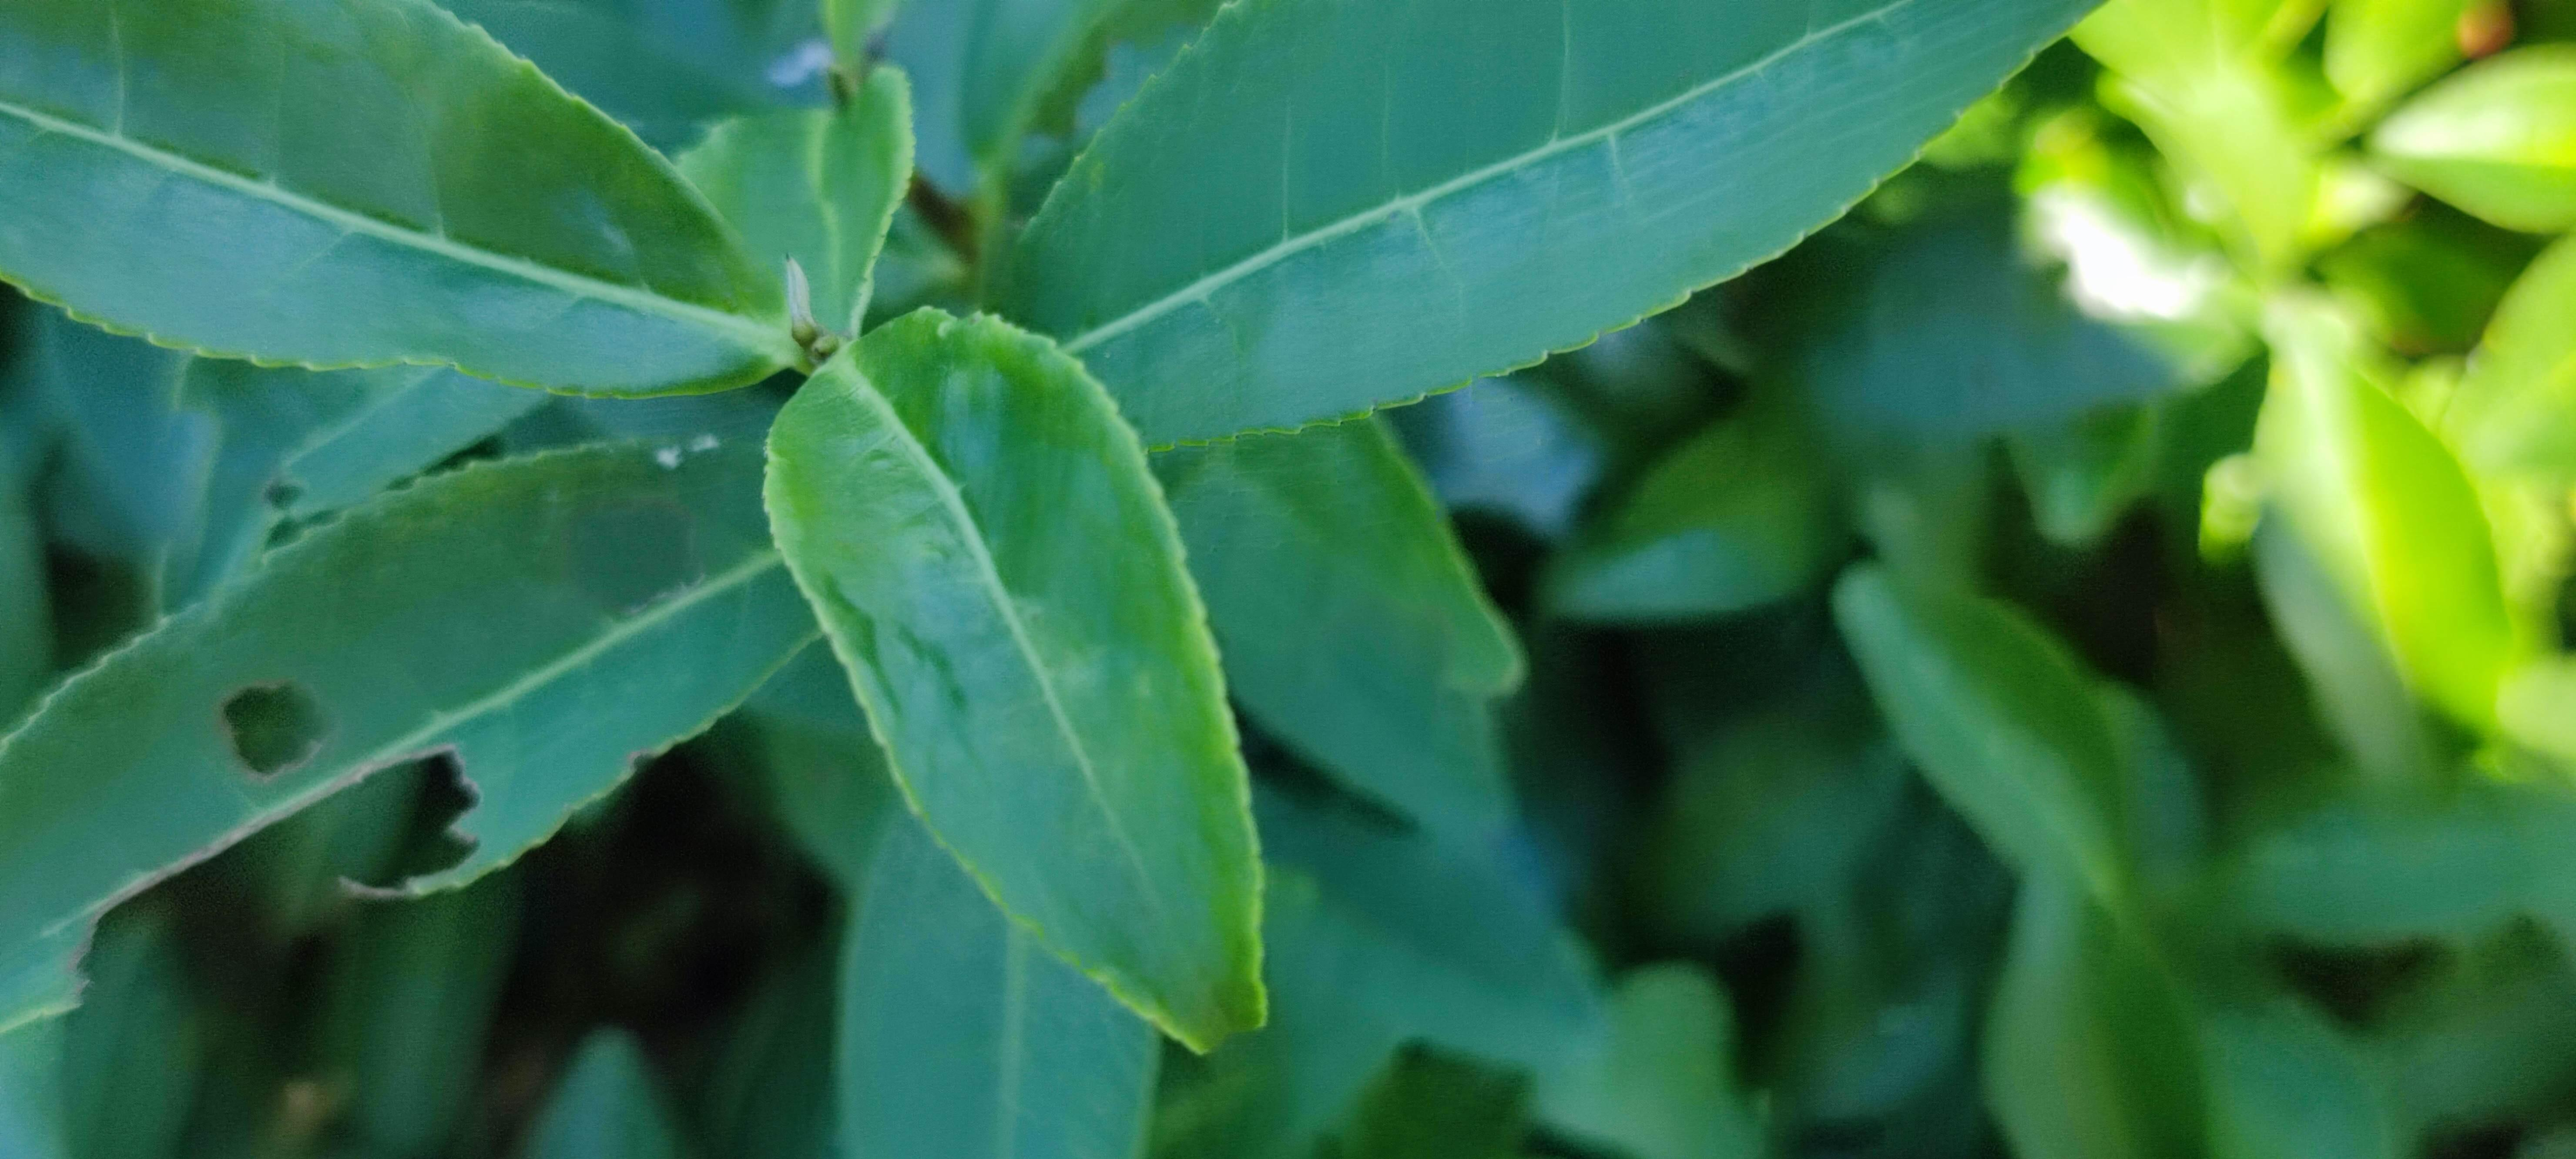chihuo_high: (7, 428, 831, 1031), (151, 333, 555, 625)
healthy: (997, 3, 2103, 456), (764, 309, 1272, 1061), (5, 3, 790, 397)
